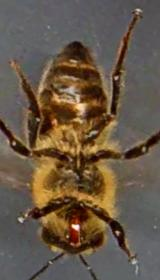varroa_mite: (38, 104, 58, 132)
